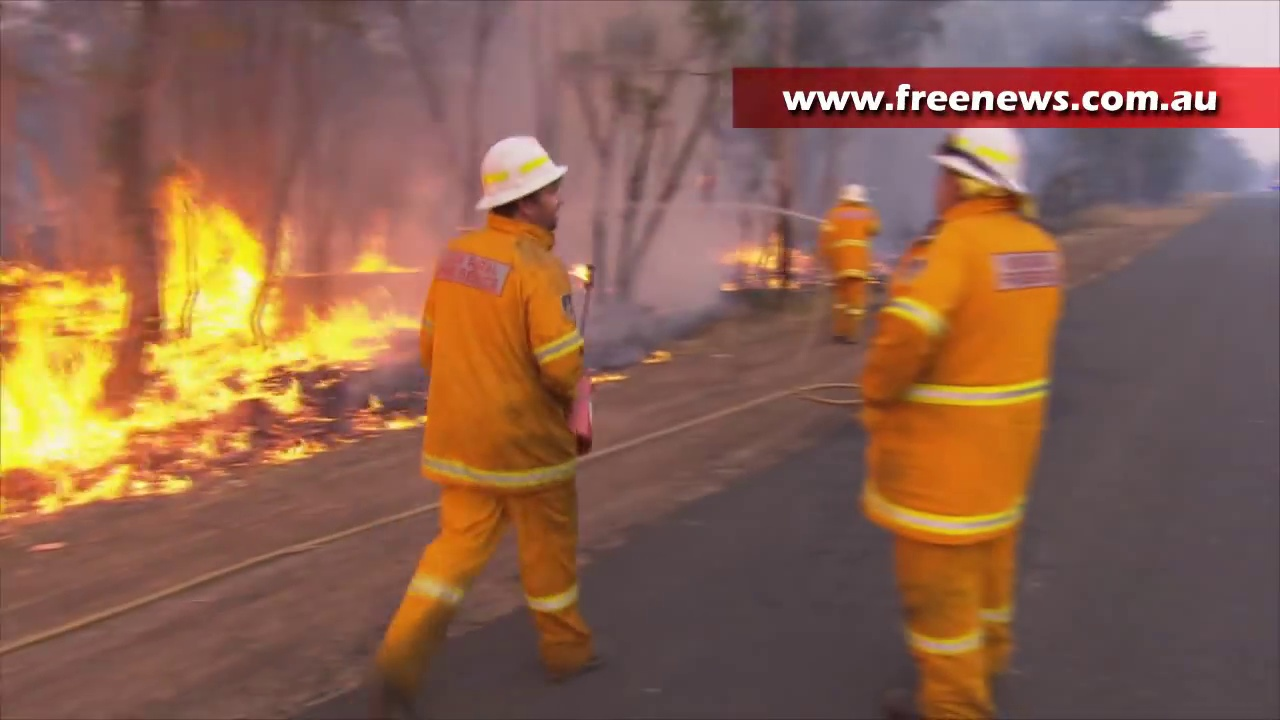fire: (157, 182, 414, 445), (3, 261, 126, 501), (742, 249, 764, 267)
